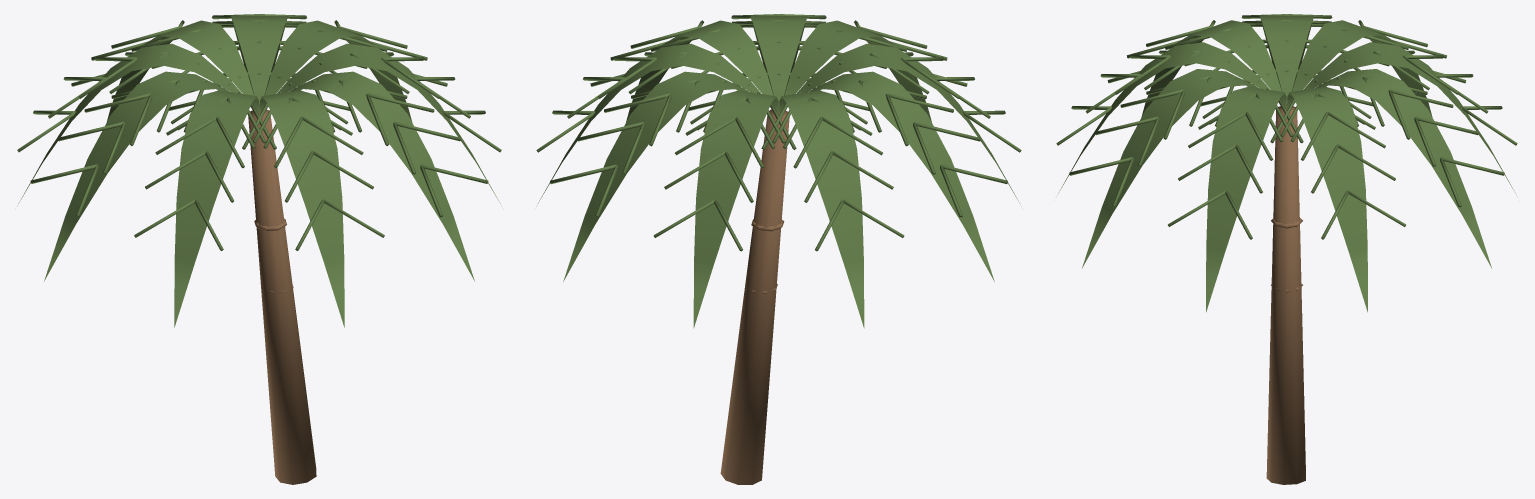
Rendered from SM_ED_Palm_0.fbx.
The picture shows the model from 3 angles, left to right: view 1: azimuth 30°, elevation 25°; view 2: azimuth 150°, elevation 25°; view 3: azimuth 270°, elevation 25°; orthographic projection. The views are drawn at different scales.
Parts seen in each view (by area): view 1: Palm; view 2: Palm; view 3: Palm.
Boxes of the visible parts, x1=… form: Palm: x1=17, y1=14, x2=501, y2=484; Palm: x1=536, y1=14, x2=1021, y2=484; Palm: x1=1056, y1=14, x2=1517, y2=484.
Size of the model in its own units: 686 by 689 by 660.
